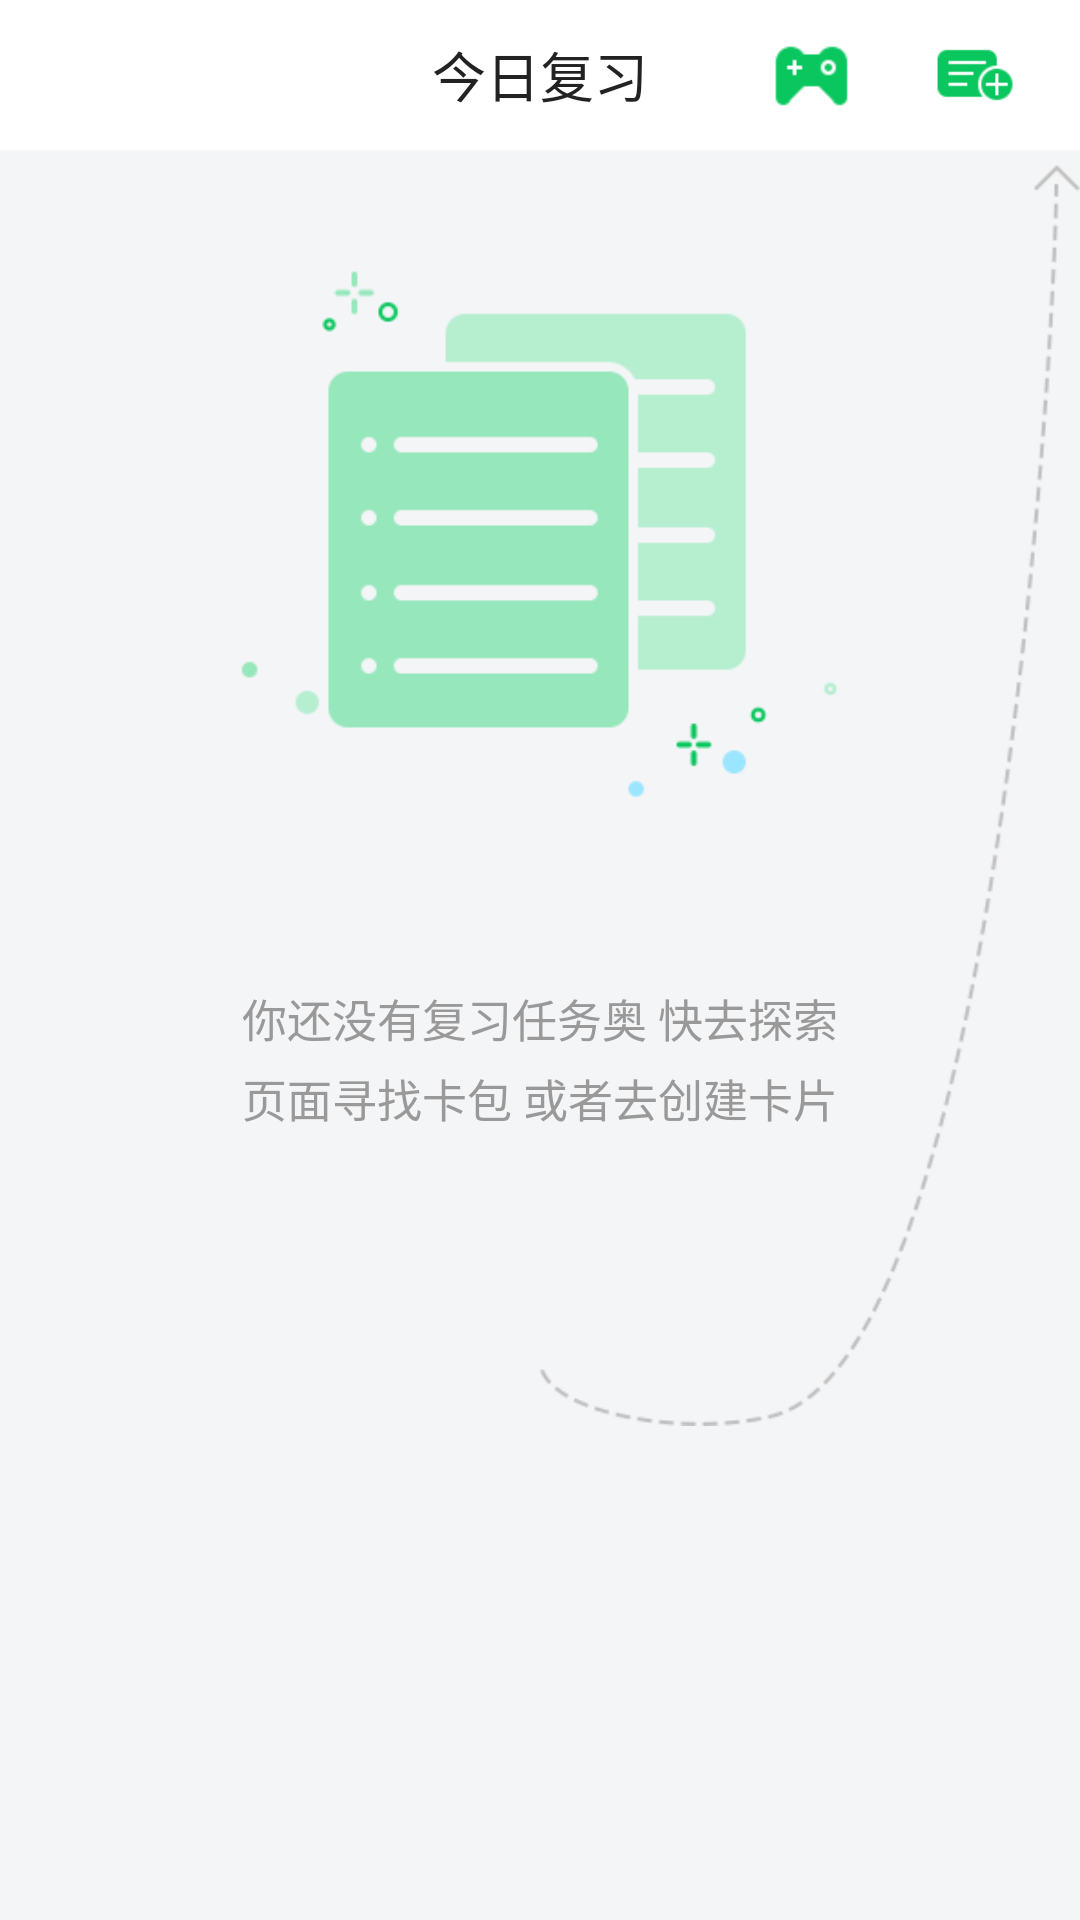

Named icons in this screenshot (1080 x 1920) and their centers, [x,y]:
game: [811,76]
newcard: [975,75]
